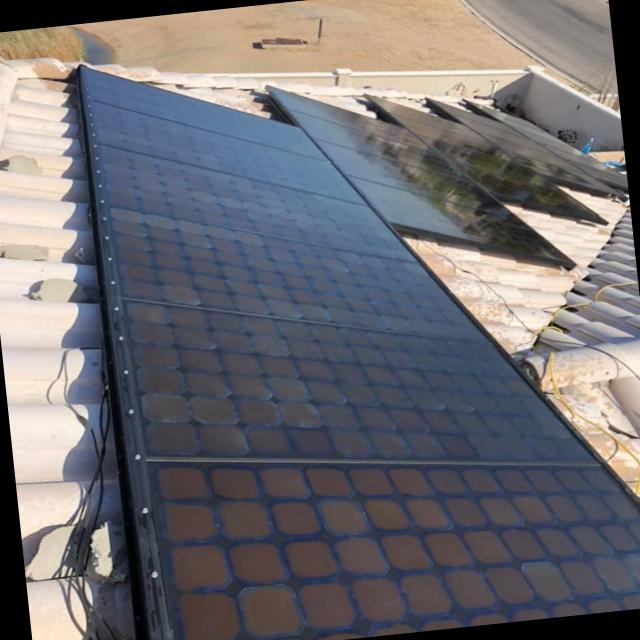no faulty: (85, 65, 640, 640)
